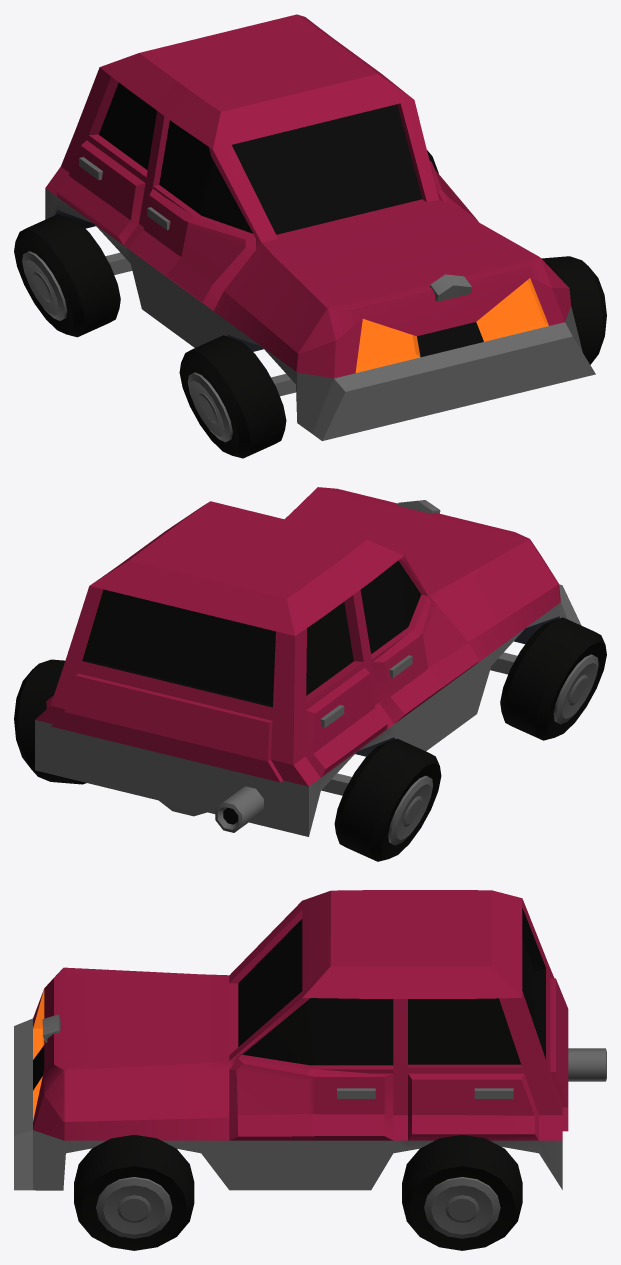
File: CAR.fbx
The picture shows the model from 3 angles, top to bottom: view 1: azimuth 30°, elevation 25°; view 2: azimuth 150°, elevation 25°; view 3: azimuth 270°, elevation 25°; orthographic projection.
Visible parts, largest first — view 1: CAR; view 2: CAR; view 3: CAR.
Part boxes in pixels (x1,y1,x2,y2): CAR: [14, 14, 606, 458]; CAR: [14, 487, 606, 861]; CAR: [14, 890, 606, 1250].
Size of the model in its own units: 298 by 179 by 393.
